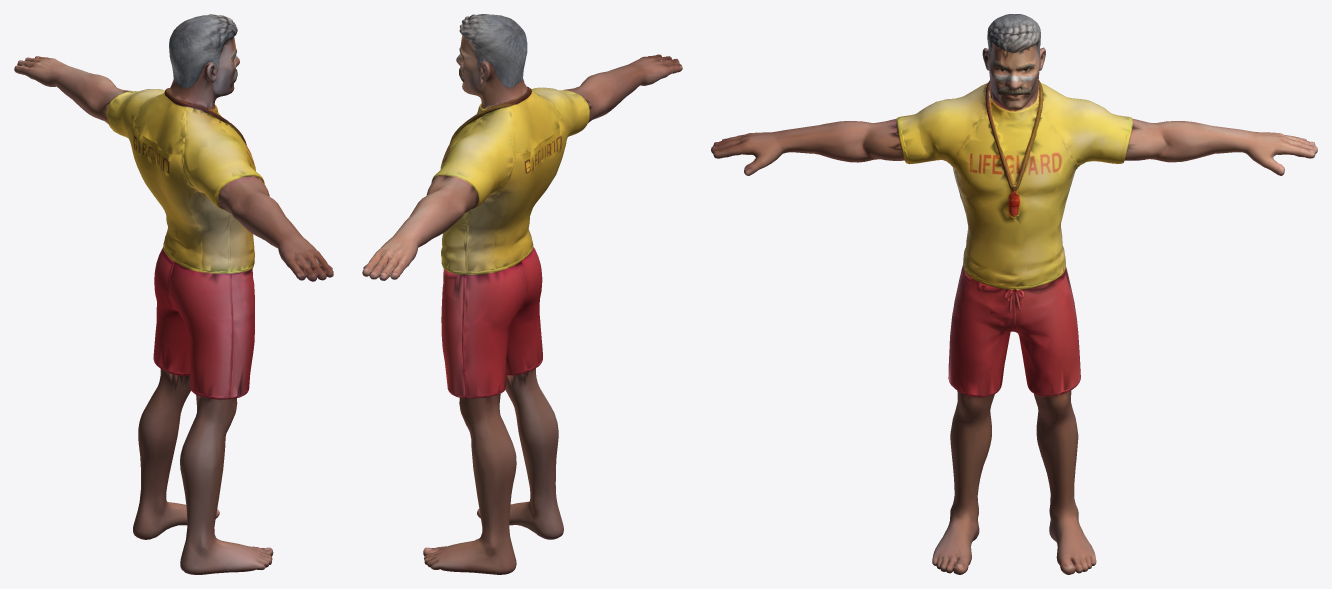
The model's file is the-lifeguard.glb.
3 renders of one model, left to right at view 1: azimuth 30°, elevation 25°; view 2: azimuth 150°, elevation 25°; view 3: azimuth 270°, elevation 25°, orthographic.
Visible parts, largest first — view 1: the-lifeguard; view 2: the-lifeguard; view 3: the-lifeguard.
Part boxes in pixels (x1,y1,x2,y2): the-lifeguard: [14, 14, 333, 574]; the-lifeguard: [362, 14, 682, 574]; the-lifeguard: [711, 14, 1317, 574].
Size of the model in its own units: 0.1858 by 0.9603 by 0.981.
Materials: 1 (1 with a texture image).
